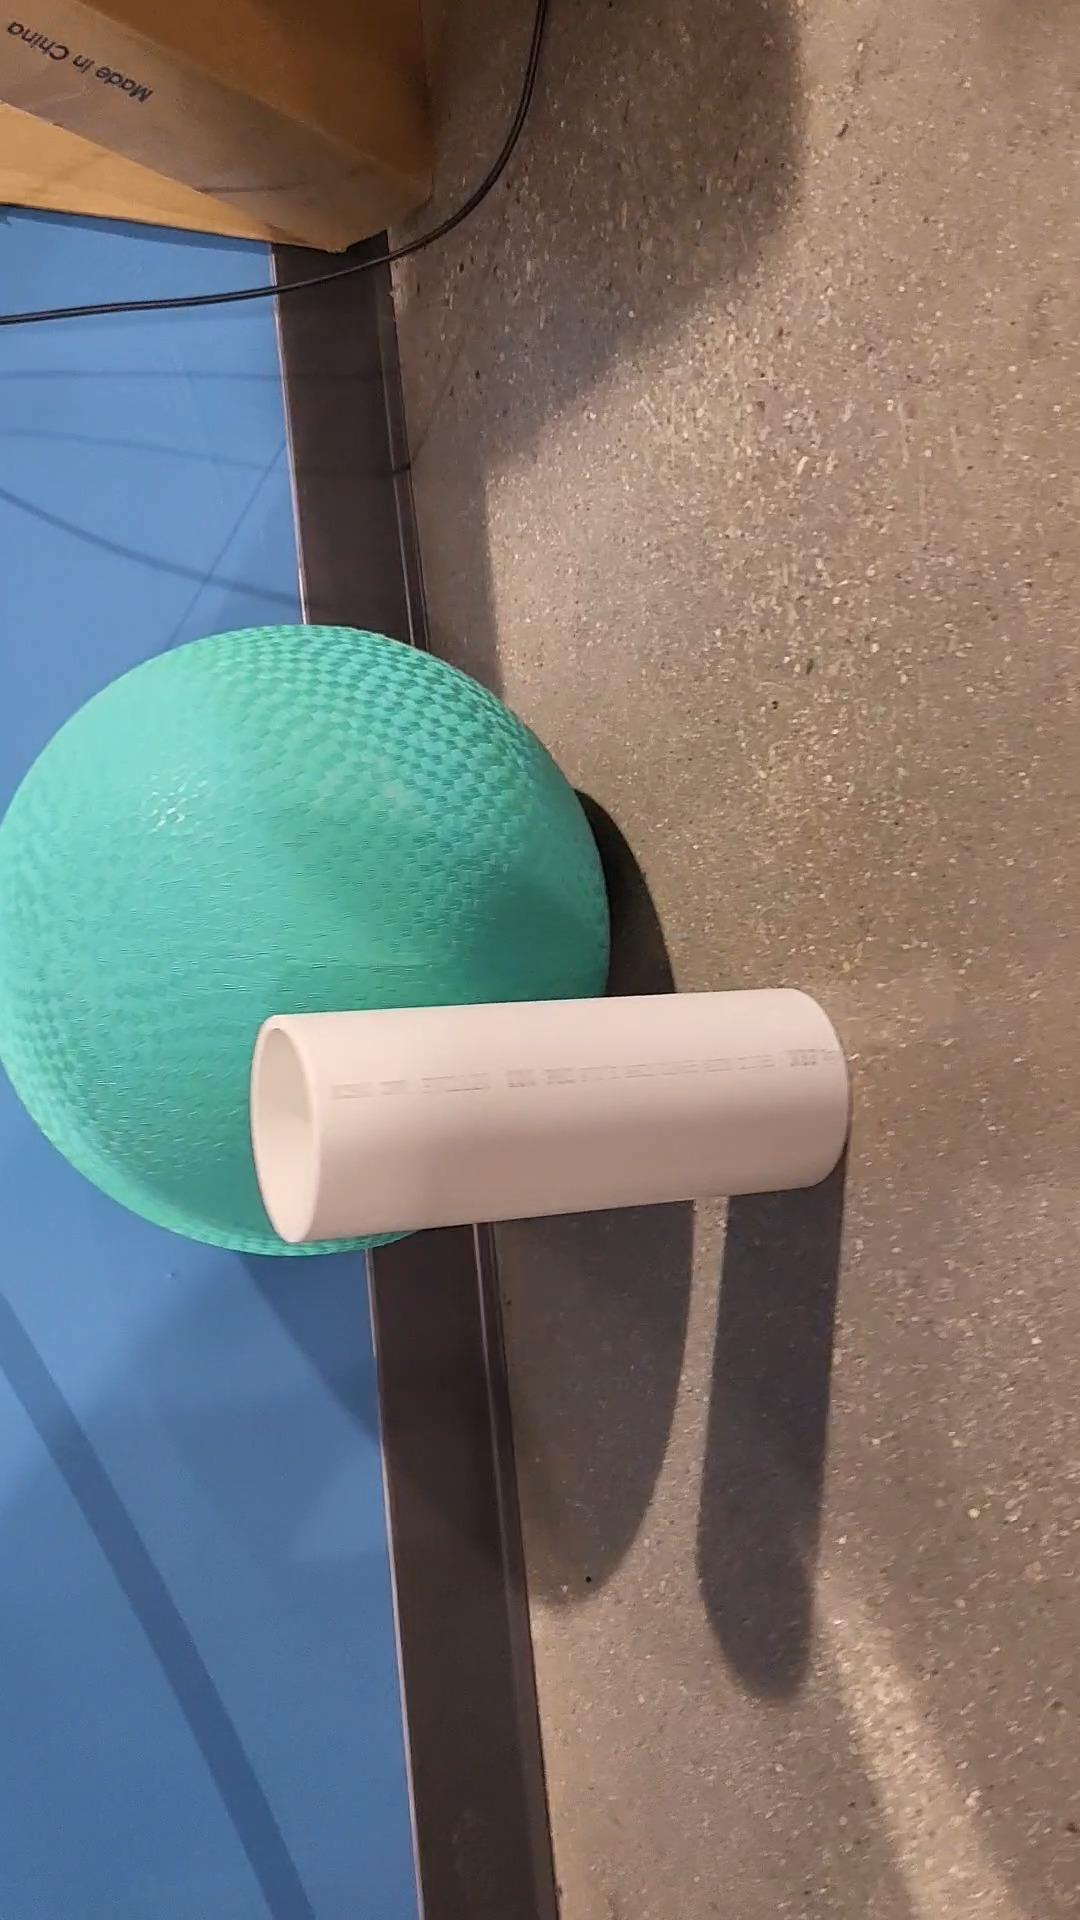algae: (0, 625, 608, 1258)
coral: (251, 986, 845, 1242)
